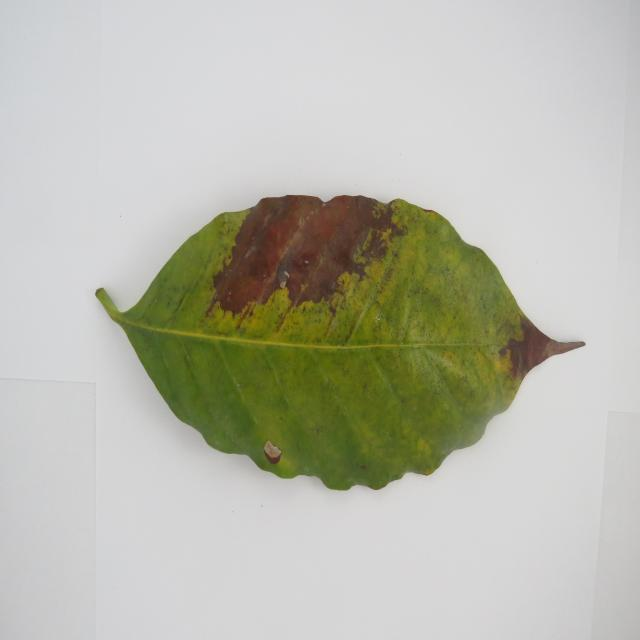DeficienciaNutricional-Potasio: (96, 195, 584, 490)
